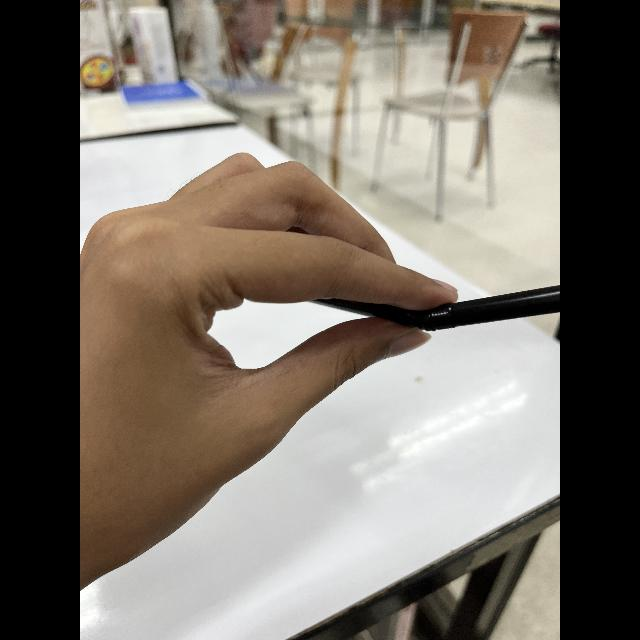straw: (296, 280, 560, 338)
